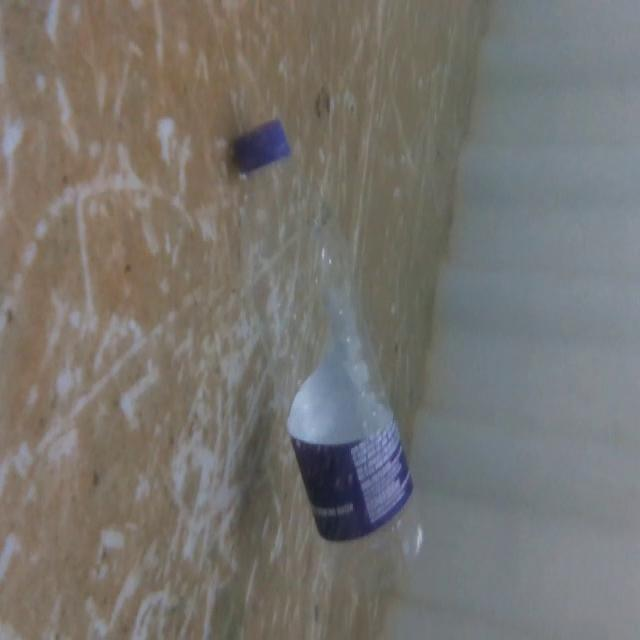plastic bottle: (229, 113, 435, 594)
